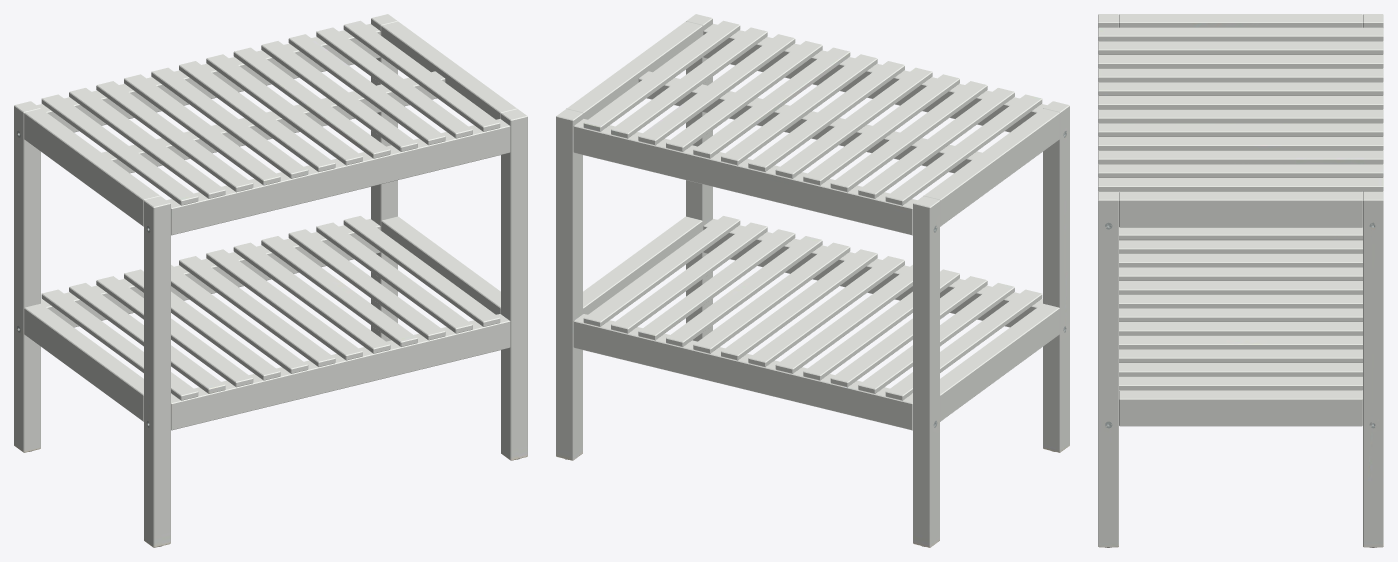
The model's file is muskan_awka_50345957.glb.
The picture shows the model from 3 angles, left to right: view 1: azimuth 30°, elevation 25°; view 2: azimuth 150°, elevation 25°; view 3: azimuth 270°, elevation 25°; orthographic projection.
Parts seen in each view (by area): view 1: muskan_awka_50345957; view 2: muskan_awka_50345957; view 3: muskan_awka_50345957.
Part boxes in pixels (x1,y1,x2,y2): muskan_awka_50345957: (14, 14, 527, 547); muskan_awka_50345957: (556, 14, 1069, 547); muskan_awka_50345957: (1098, 14, 1383, 547).
Bounding box in the file's own units: 0.575 × 0.5025 × 0.372.
Materials: 1 (1 with a texture image).
